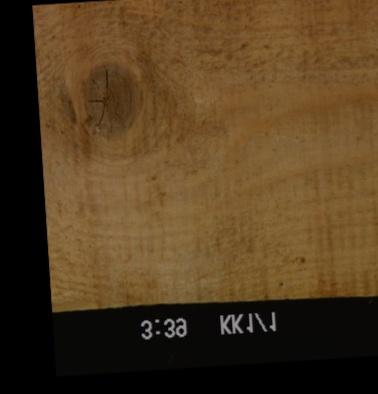sound_knot: (77, 59, 147, 142)
